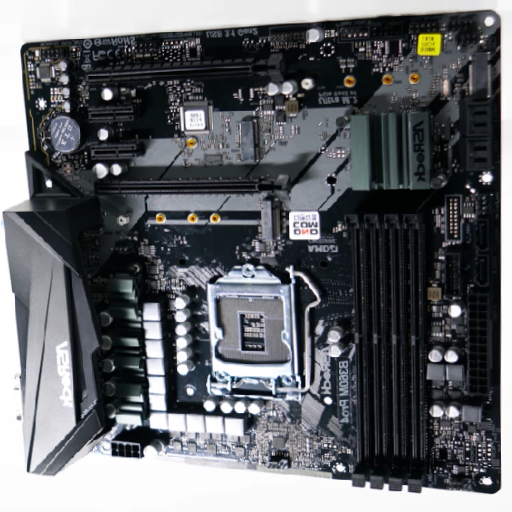CPU: (206, 264, 305, 396)
GPU: (86, 53, 285, 88), (95, 174, 288, 200)
MOTHERBOARD: (22, 14, 498, 498)
RAM: (342, 215, 429, 491)
SSD: (260, 201, 281, 250), (239, 119, 259, 164)
